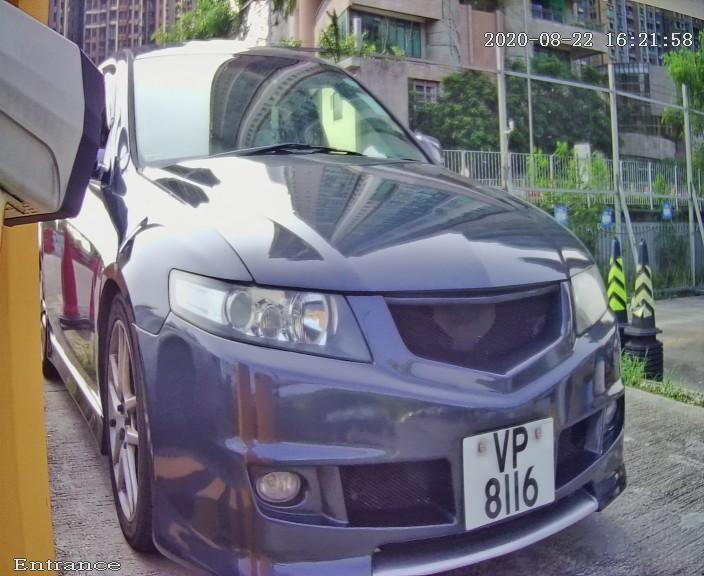Car: (23, 1, 657, 576)
License Plate: (456, 409, 560, 535)
